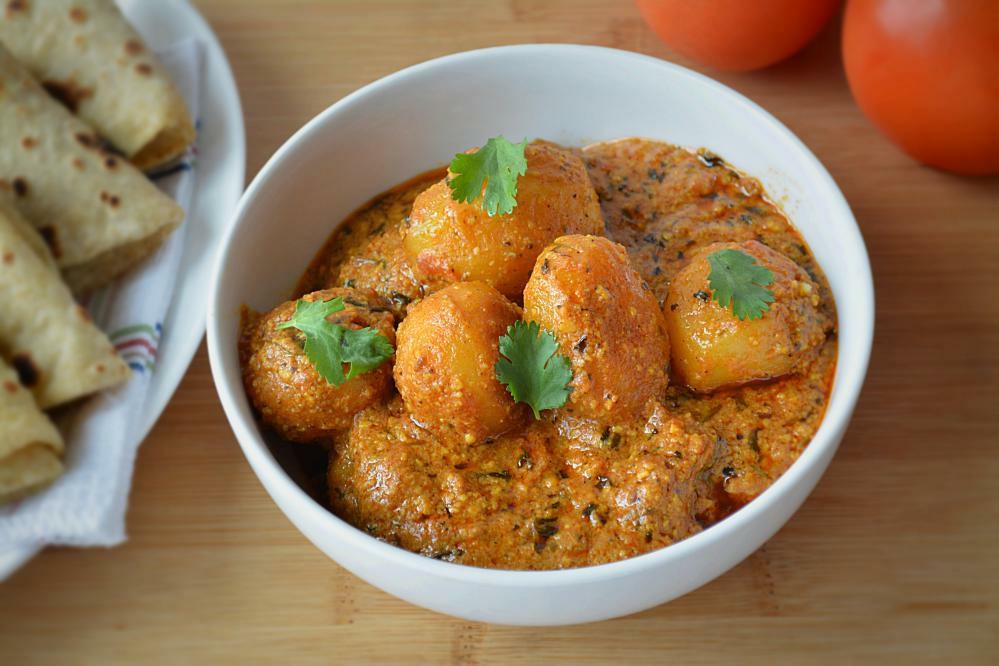DumAloo: (235, 133, 833, 572)
